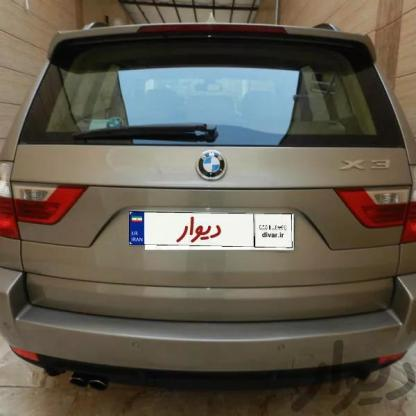Car: (0, 17, 416, 384)
